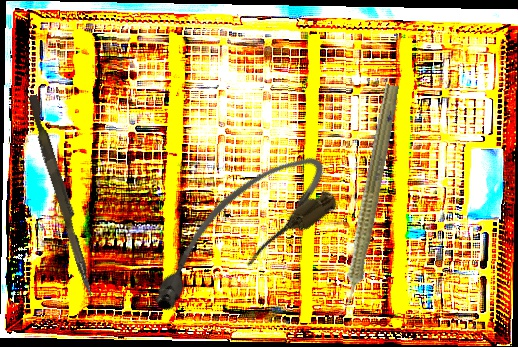Cannula: (127, 139, 348, 326)
Handpiece: (330, 81, 404, 322)
Pusher: (22, 94, 102, 297)
